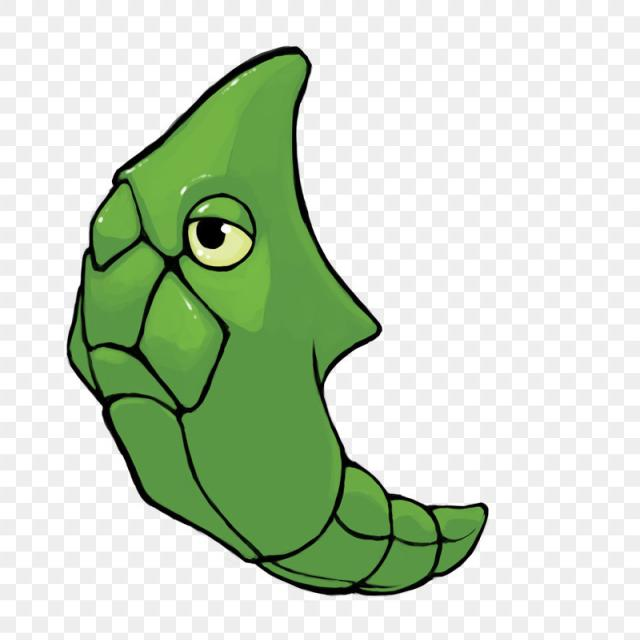Metapod: (46, 36, 507, 605)
